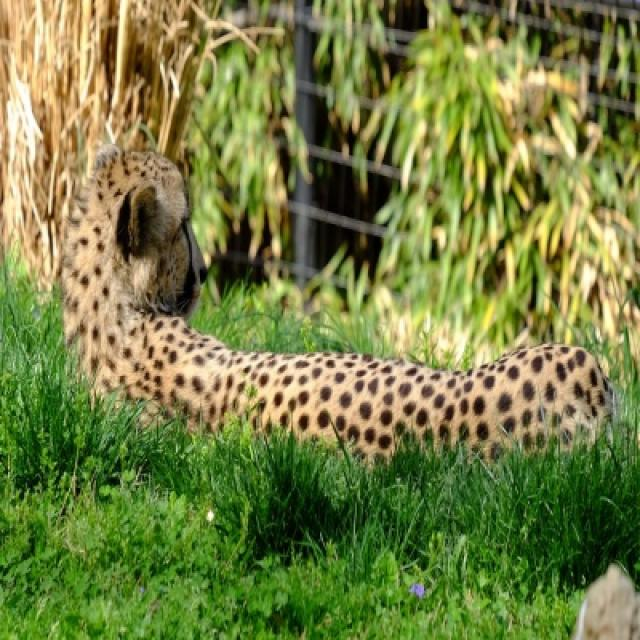Cheetah: (62, 149, 621, 466)
